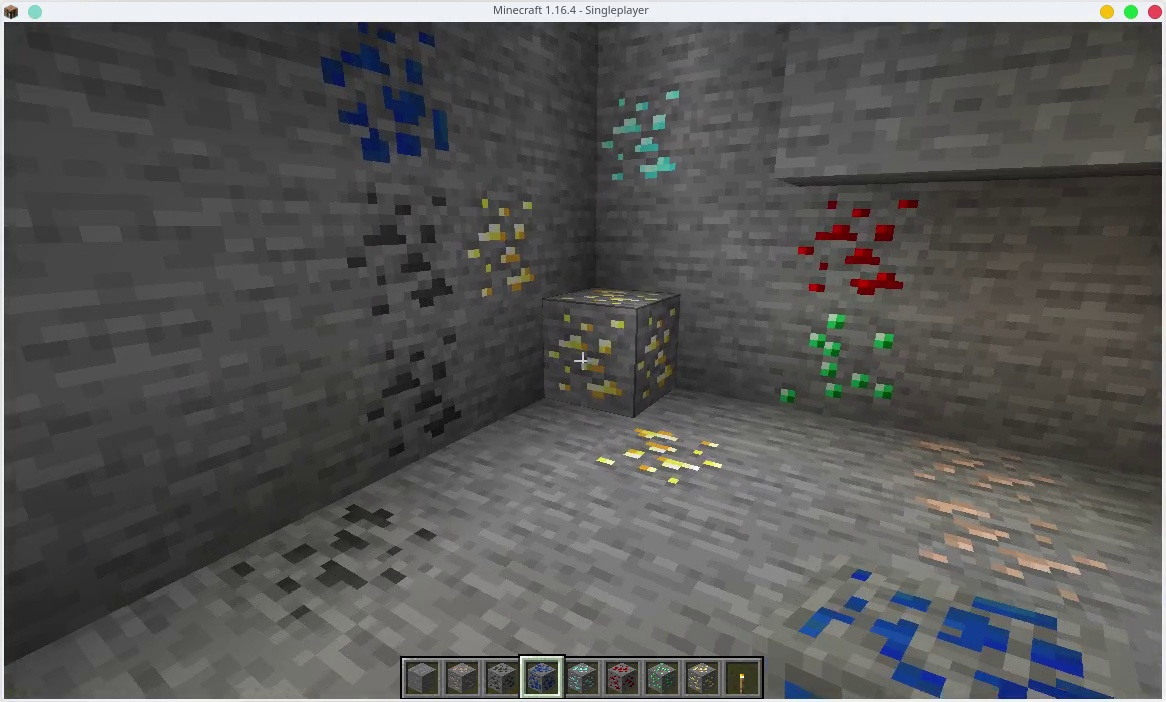gold: (546, 291, 684, 411), (599, 422, 721, 495), (470, 194, 533, 297), (685, 661, 718, 692)
